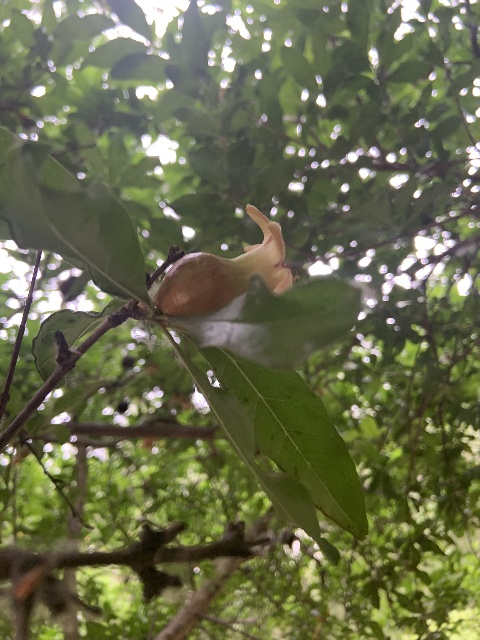early-fruit: (153, 203, 295, 320)
